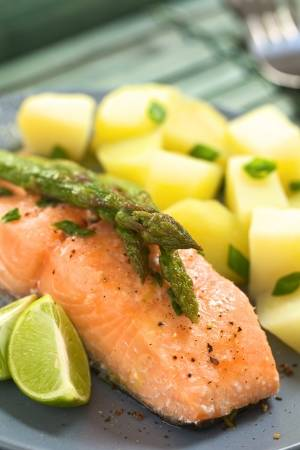boiled potatoes: (99, 70, 300, 210), (153, 191, 242, 287), (16, 87, 93, 151)
